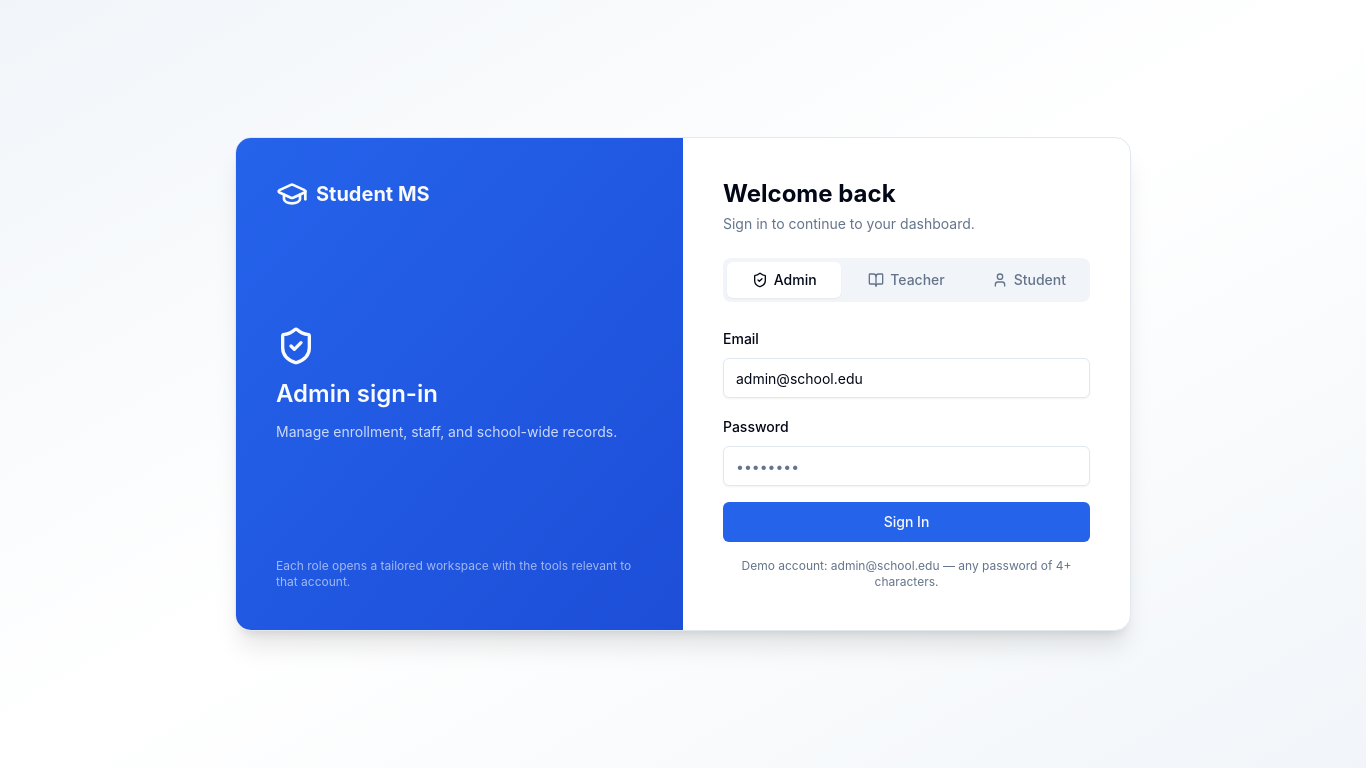
App › logs in as student and shows the student dashboard without student directory access
Step 1. Replace the text in the field labelled "Email" with "student@school.edu" → x=906, y=378, box [723,358,1090,398]
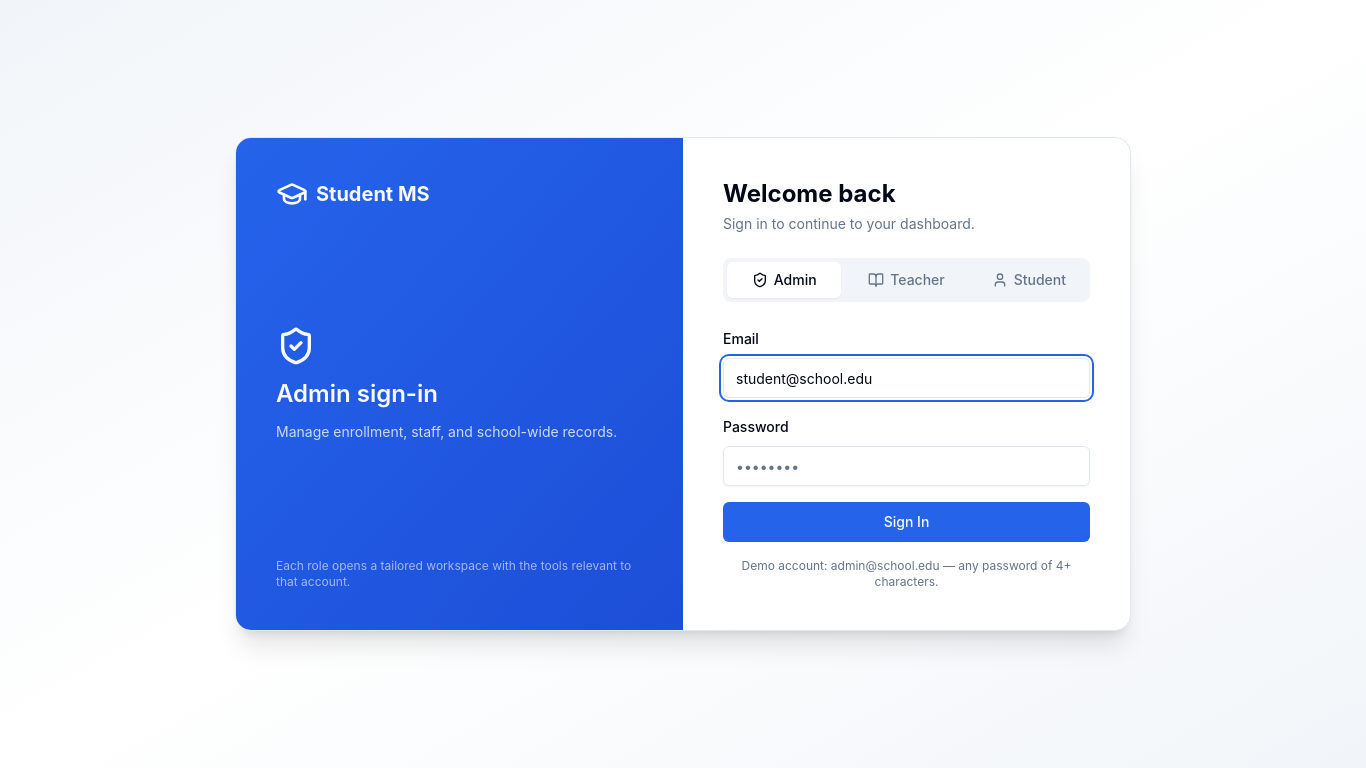
Step 2. Type "anything123" into the password field labelled "Password" → x=906, y=466, box [723,446,1090,486]
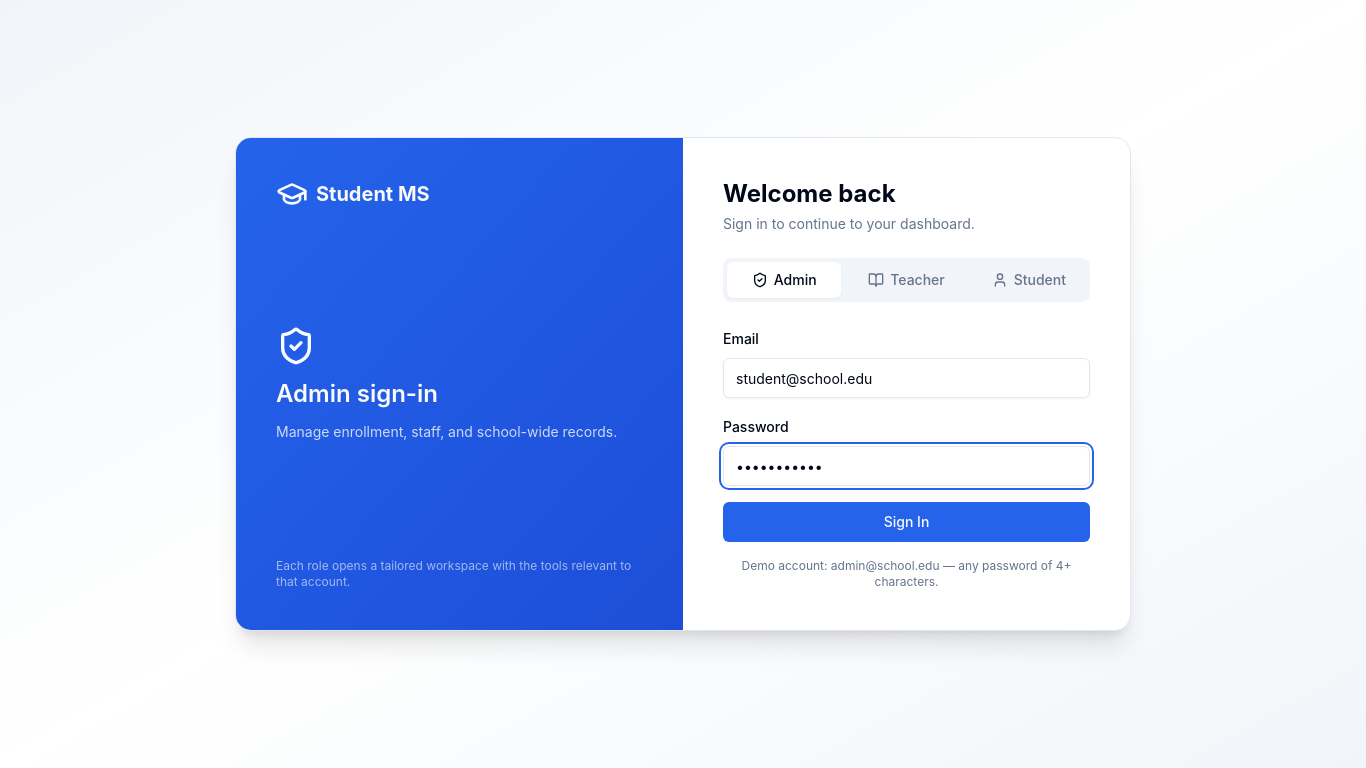
Step 3. Click the button "Sign In" → x=906, y=522, box [723,502,1090,542]
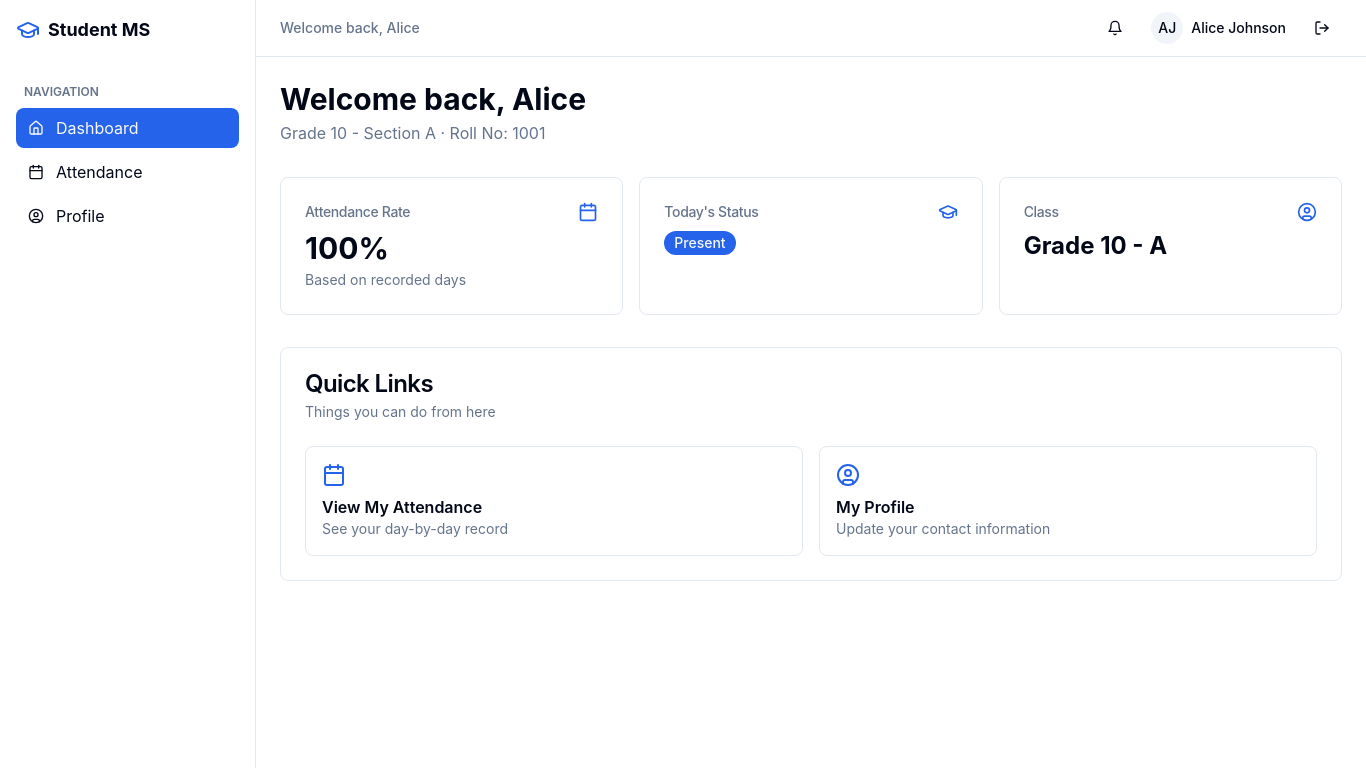
expect the heading "Welcome back, Alice" is shown: met, box [280,81,586,117]
